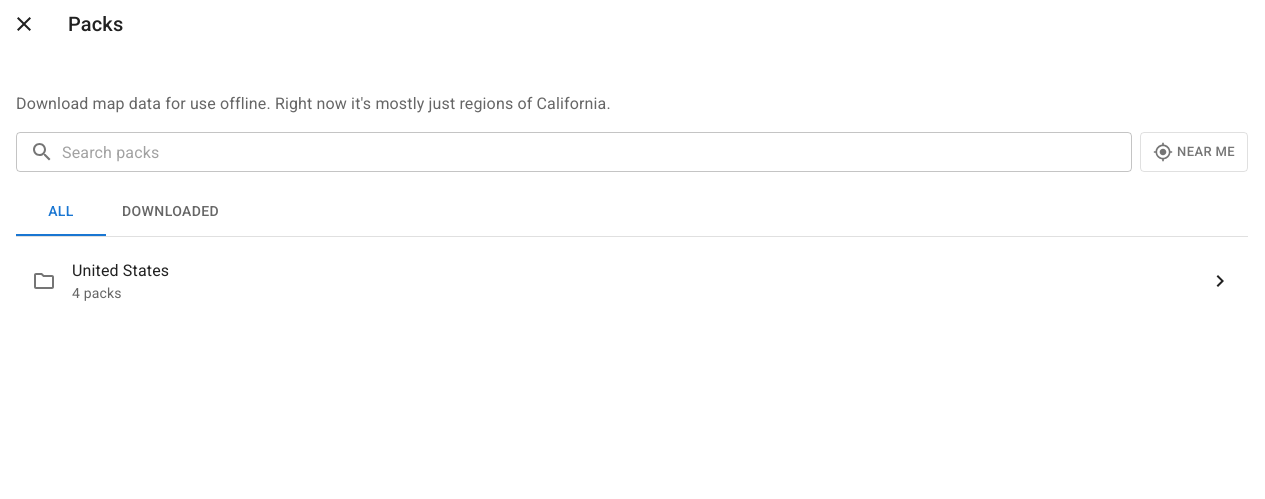
Scenario: Packs › near me › only lists packs that match the search too
Expected: the text "United States" is shown, [72,261,169,280]
Click the button "Near me" at [1194, 152], box [1140,132,1248,172]
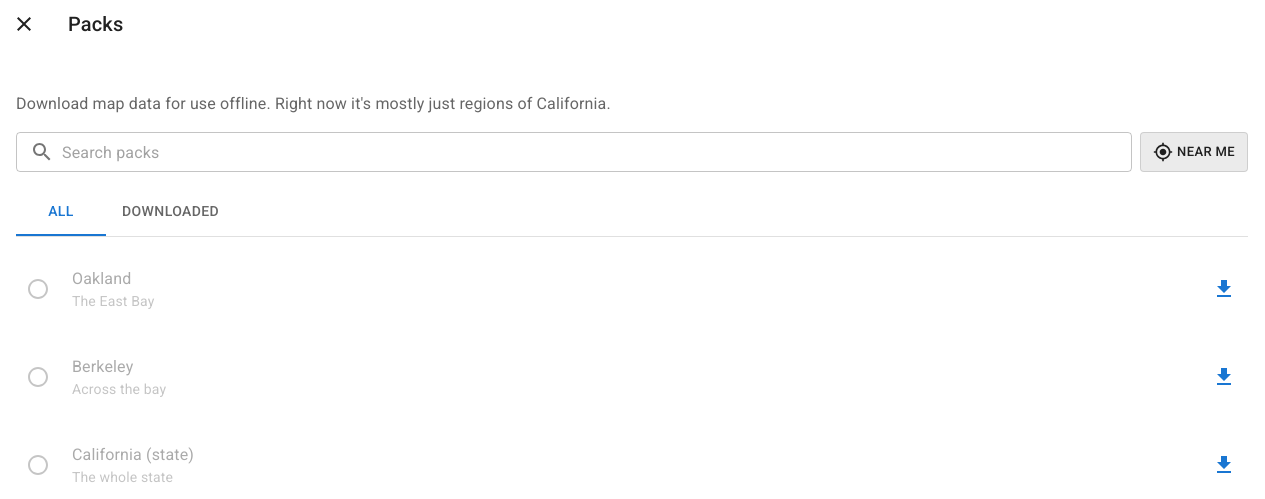
Type "cali" into the search field labelled "Search packs" at [597, 152], box [62,132,1132,172]
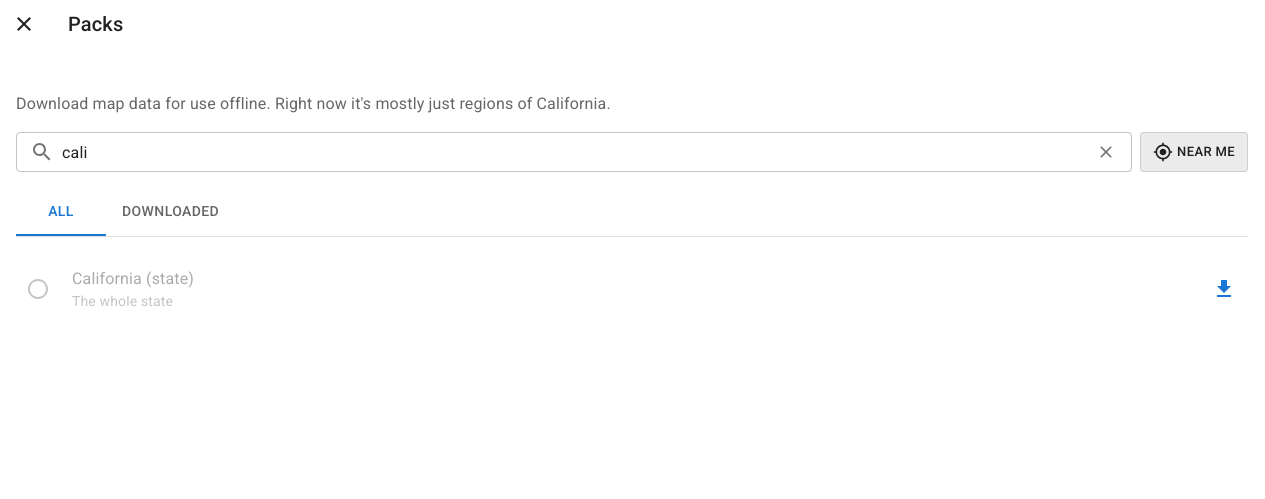
Expected: the text "California (state)" is shown, [72,269,194,288]
Expected: the button "Oakland" is gone
